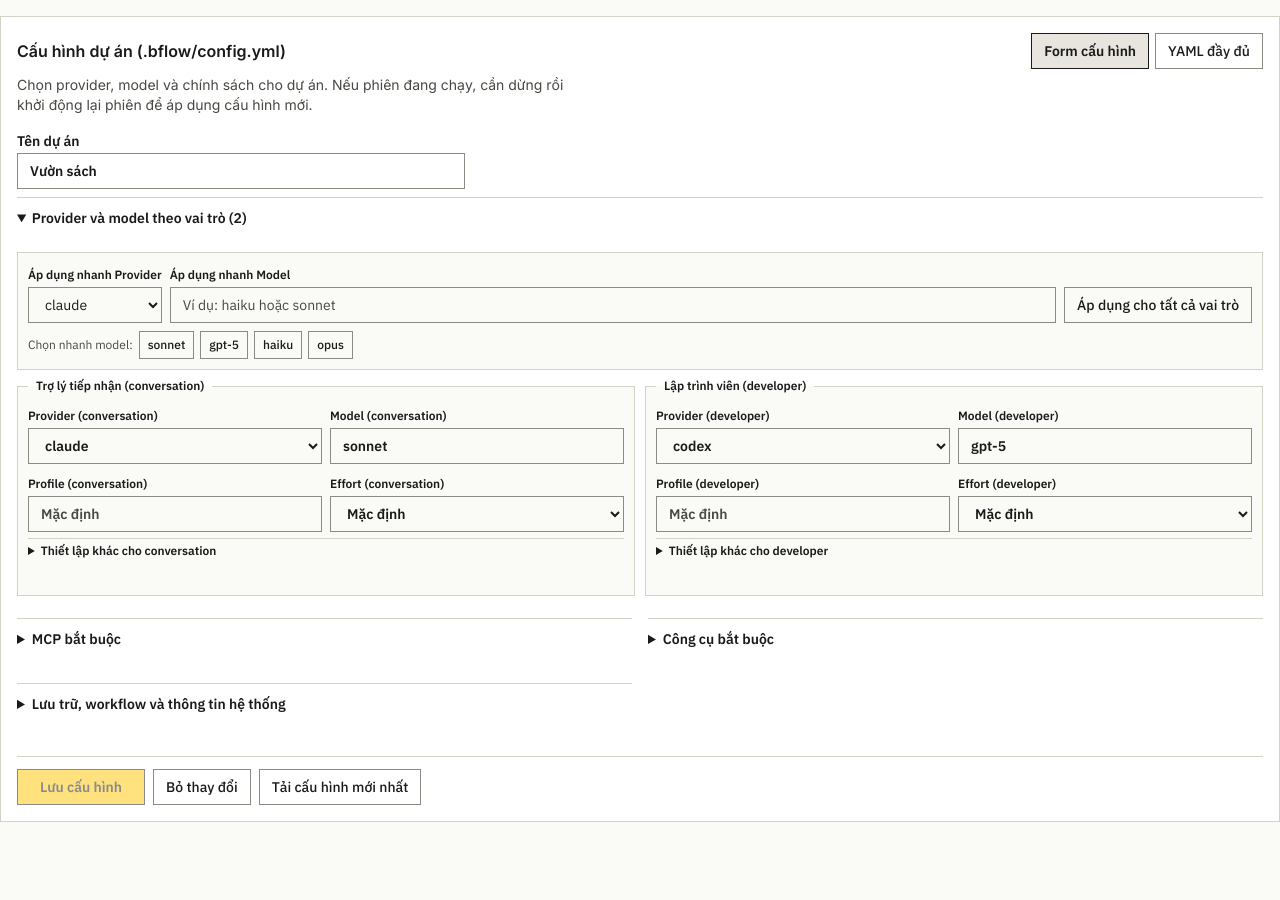
Web UX stabilization & functional regression guards › keeps role Model inputs as textbox role and supports 1-click bulk Provider/Model apply across roles
Check: the field labelled "Model (conversation)" holds "sonnet", box [330,428,624,464]
Check: the field labelled "Model (developer)" holds "gpt-5", box [958,428,1252,464]
Select "claude" in the dropdown labelled "Áp dụng nhanh Provider": (95, 305) [28,287,162,323]
In the field labelled "Áp dụng nhanh Model": (613, 305) [170,287,1056,323], type "haiku"
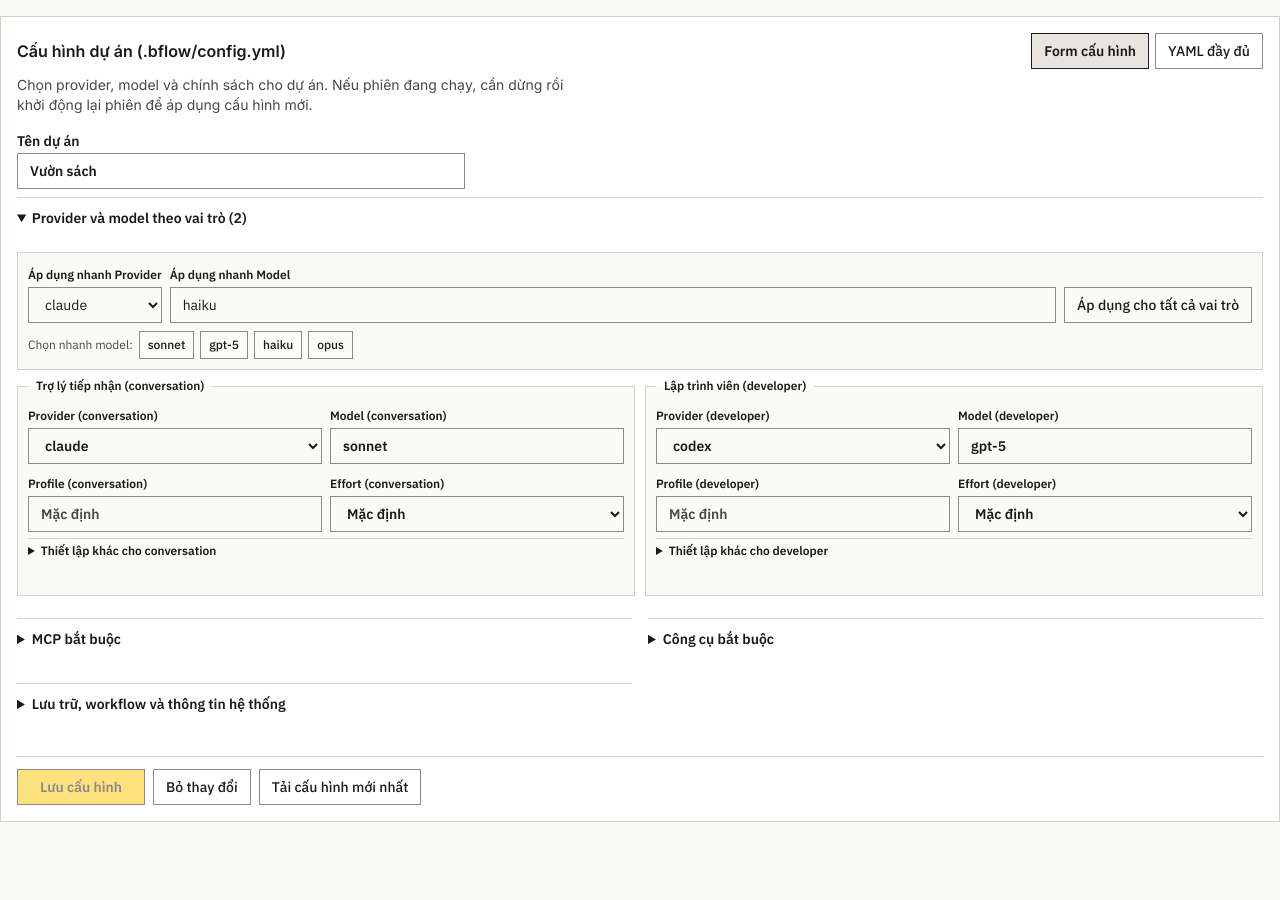
Click the button "Áp dụng cho tất cả vai trò": (1158, 305) [1064,287,1252,323]
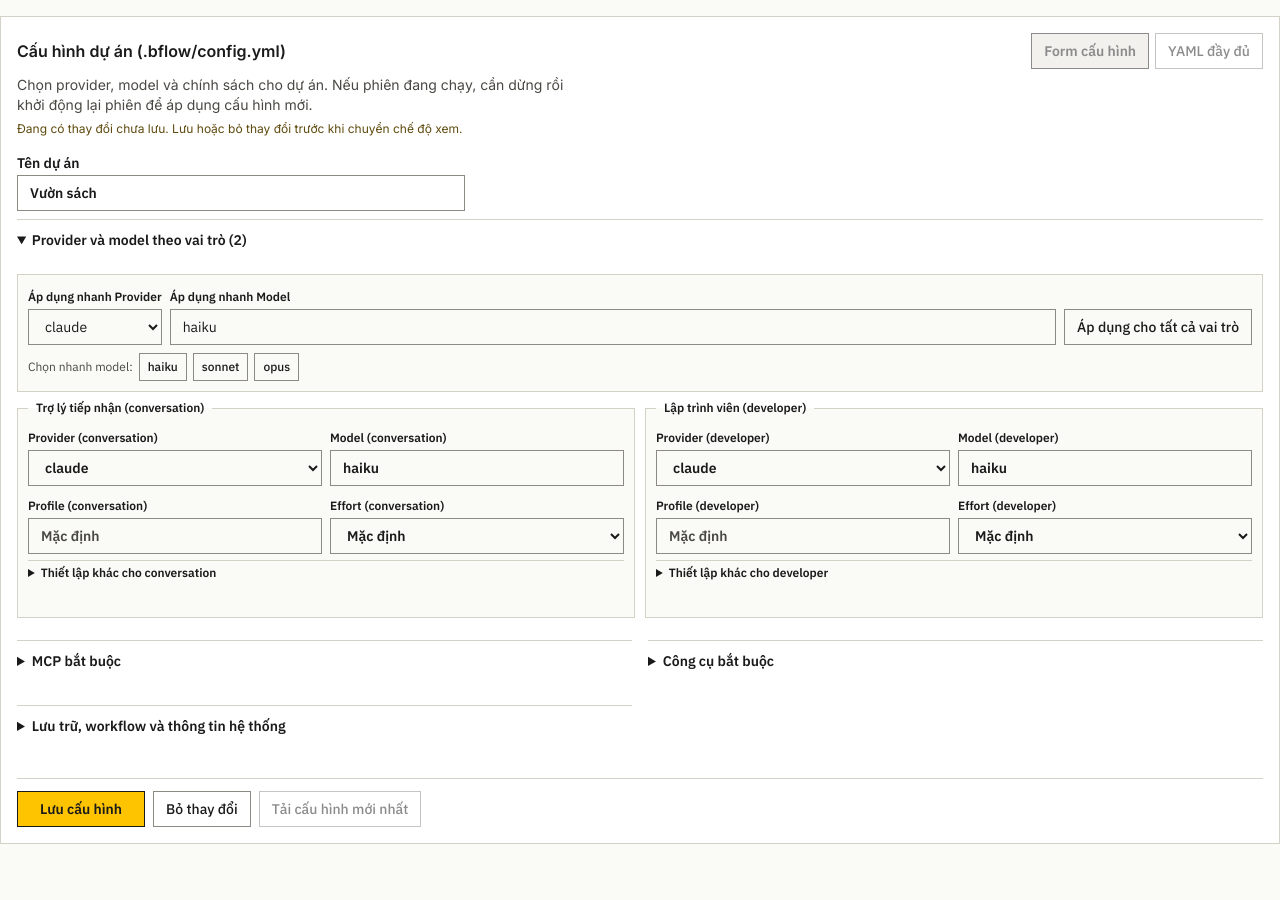
Check: the field labelled "Model (conversation)" holds "haiku", box [330,450,624,486]
Check: the field labelled "Model (developer)" holds "haiku", box [958,450,1252,486]
Check: the dropdown labelled "Provider (developer)" shows "claude", box [656,450,950,486]
